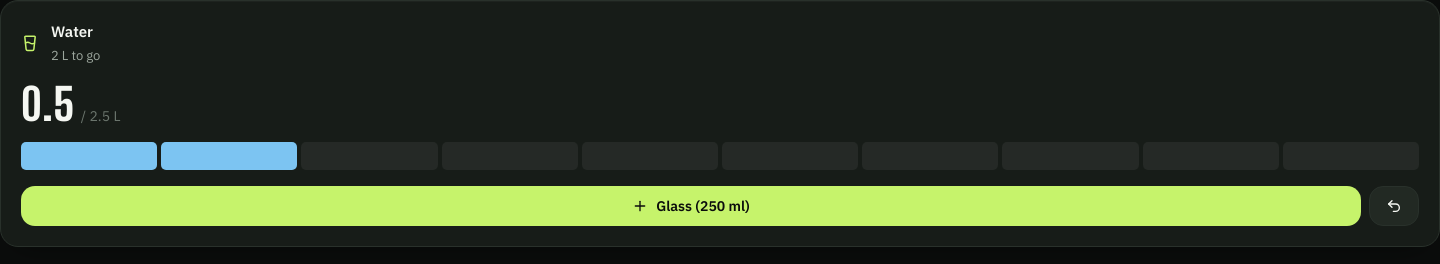
Test: water card › adds a glass and shows the saved total
Click the button "Glass (250 ml)".
click(691, 206)  # box [21,186,1361,226]
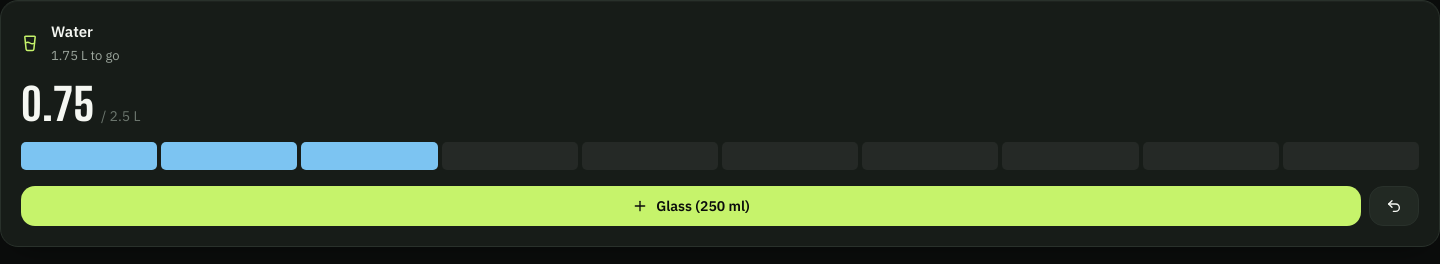
Check: the text "0.75" is shown, box [21,78,95,130]
Check: the picture named "3 of 10 glasses" is shown, box [21,142,1419,170]
